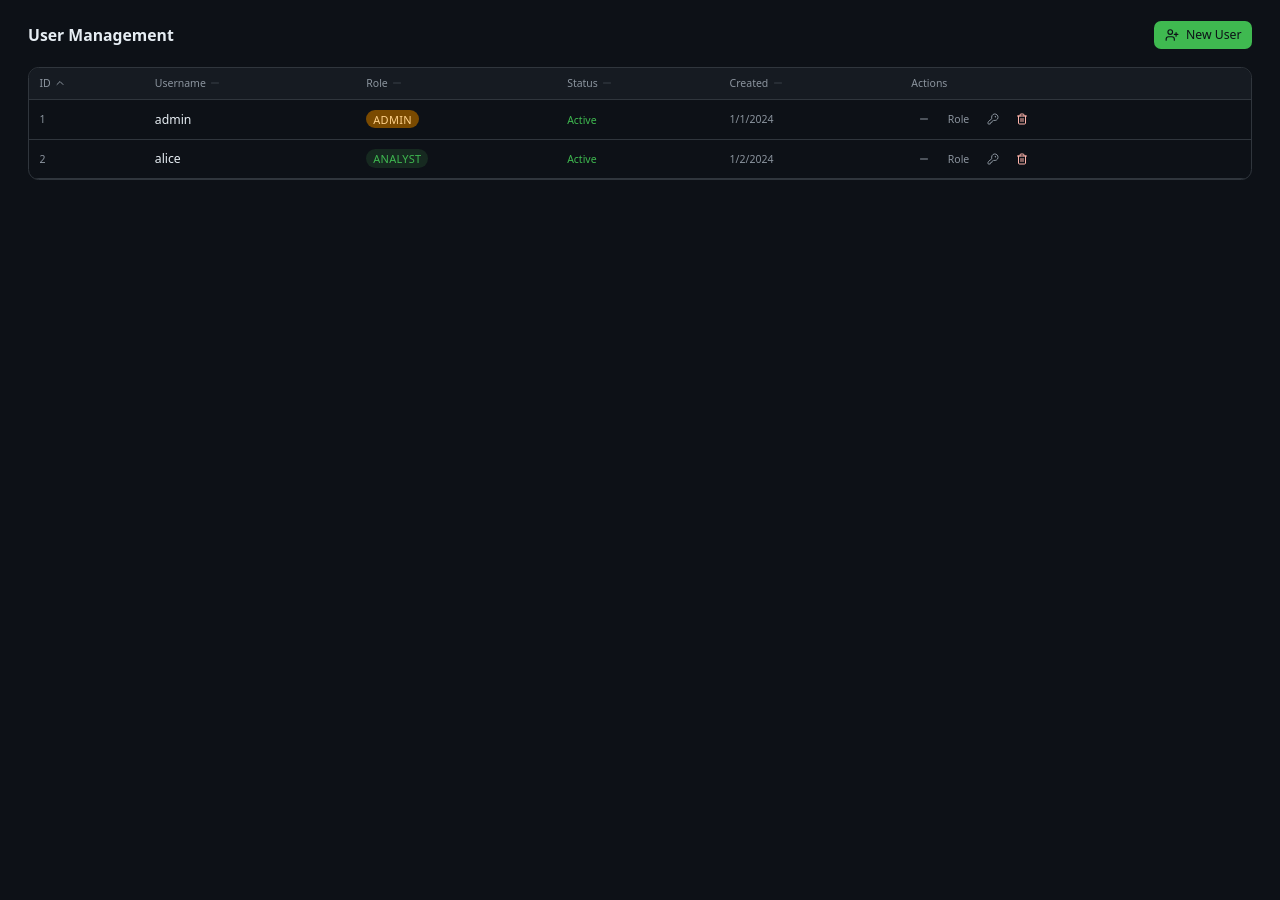
Test: Users page › shows create user dialog when New User button clicked
Expected: the text "alice" is shown, [144,139,356,178]
Click the button with aria-label "create user" at (1203, 35), box [1154,21,1252,49]
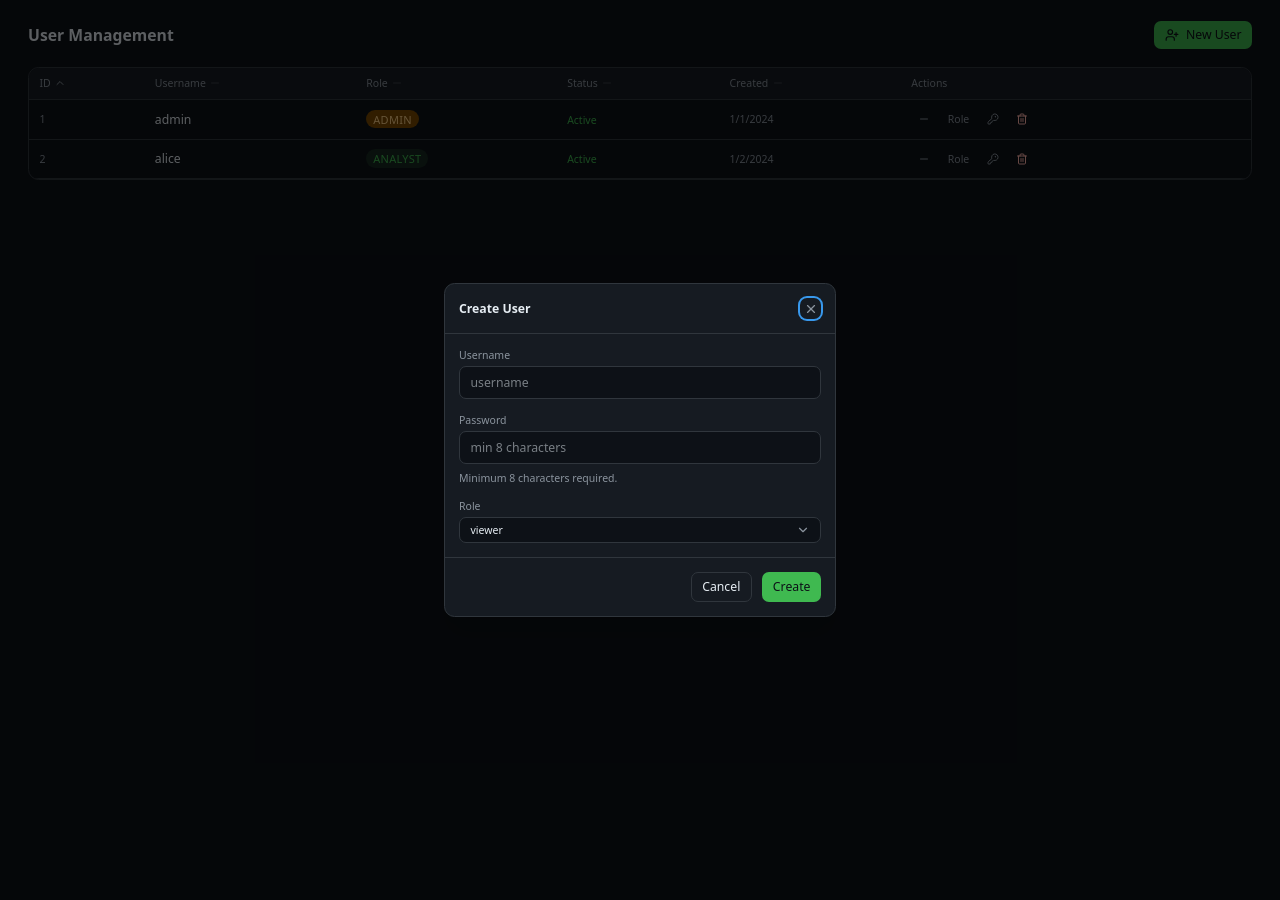
Expected: the dialog is shown, [444,283,836,617]
Expected: the heading "Create User" is shown, [459,300,531,317]
